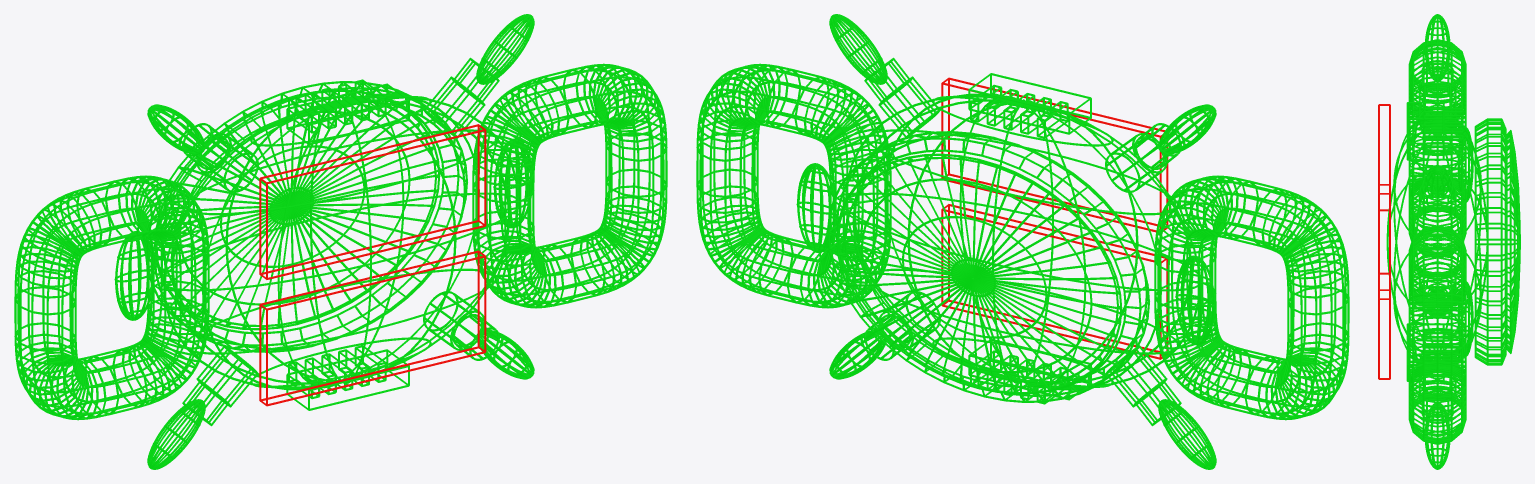
Rendered from building-armour-highlight-thermal-transducers.glb.
3 views of the same model, side by side, from view 1: azimuth 30°, elevation 25°; view 2: azimuth 150°, elevation 25°; view 3: azimuth 270°, elevation 25° (orthographic). The views are drawn at different scales.
Visible parts, largest first — view 1: chassis technical wire, damage-monitor technical wire, thermal-transducers technical wire, ionisers technical wire; view 2: chassis technical wire, damage-monitor technical wire, ionisers technical wire, thermal-transducers technical wire; view 3: chassis technical wire, ionisers technical wire, damage-monitor technical wire, thermal-transducers technical wire.
Part boxes in pixels (bbox=[...]): chassis technical wire: bbox=[14, 57, 667, 426]; damage-monitor technical wire: bbox=[154, 89, 440, 330]; thermal-transducers technical wire: bbox=[259, 124, 486, 406]; ionisers technical wire: bbox=[147, 14, 534, 469]; chassis technical wire: bbox=[696, 57, 1349, 426]; damage-monitor technical wire: bbox=[836, 153, 1122, 394]; ionisers technical wire: bbox=[829, 14, 1216, 469]; thermal-transducers technical wire: bbox=[941, 77, 1168, 359]; chassis technical wire: bbox=[1386, 39, 1506, 444]; ionisers technical wire: bbox=[1424, 14, 1450, 469]; damage-monitor technical wire: bbox=[1506, 130, 1520, 353]; thermal-transducers technical wire: bbox=[1378, 104, 1390, 379].
Size of the model in its own units: 3.09 by 1.67 by 0.7135.
